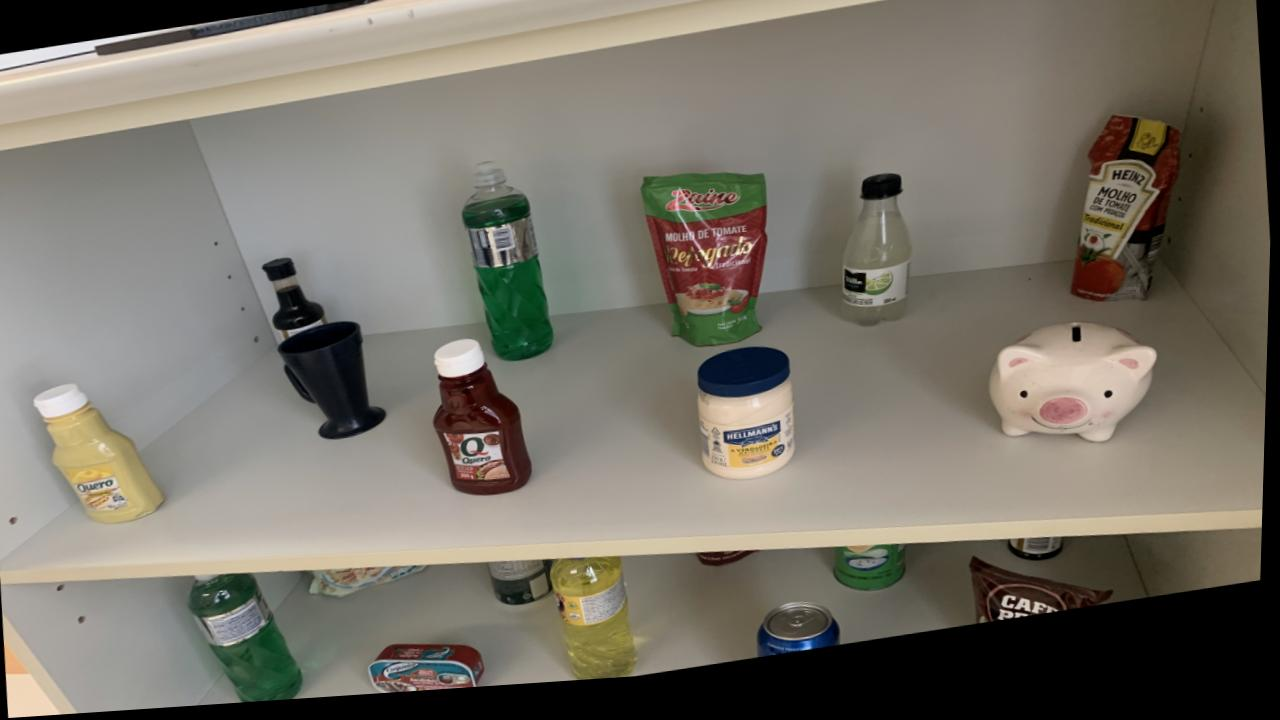Coffee-Pantry_Items: (973, 571, 1116, 637)
Detergent-Cleanup_Items: (463, 168, 555, 368), (191, 576, 307, 706), (554, 565, 641, 688)
English_Sauce-Pantry_Items: (263, 262, 327, 347), (1012, 551, 1067, 576)
Flakes-Snacks: (314, 571, 428, 602)
Guarana_Can-Drinks: (491, 567, 554, 613)
Ketchup-Pantry_Items: (435, 345, 533, 502)
Mayonnaise-Pantry_Items: (700, 357, 797, 490)
Mustard-Pantry_Items: (35, 384, 167, 525)
Pig_Safe-Miscellaneous: (991, 337, 1159, 458)
Pringles-Snacks: (837, 557, 910, 604)
Soda-Drinks: (842, 186, 915, 339)
Tomato_Sauce-Pantry_Items: (643, 183, 769, 356), (1073, 131, 1182, 317), (700, 560, 760, 577)
Tonic-Drinks: (760, 612, 844, 668)
Tuna_Can-Pantry_Items: (372, 649, 488, 699)
